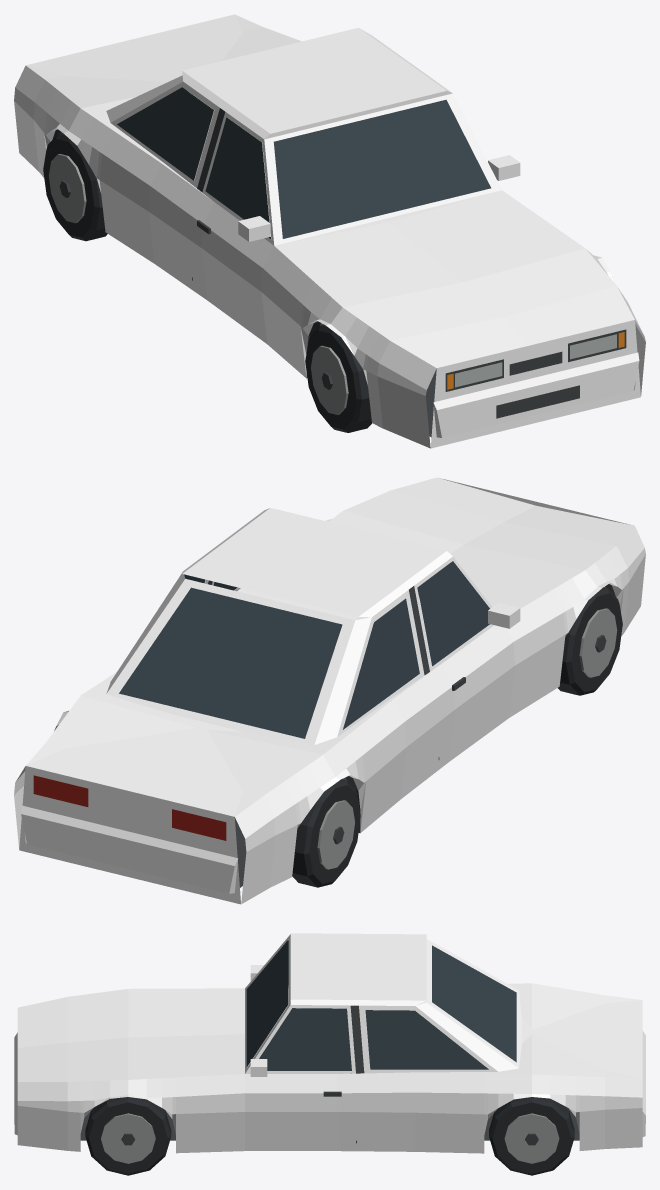
Rendered from ostwerk_reiher.glb.
The picture shows the model from 3 angles, top to bottom: view 1: azimuth 30°, elevation 25°; view 2: azimuth 150°, elevation 25°; view 3: azimuth 270°, elevation 25°; orthographic projection. The views are drawn at different scales.
Visible parts, largest first — view 1: ostwerk_reiher; view 2: ostwerk_reiher; view 3: ostwerk_reiher.
Part boxes in pixels (x1,y1,x2,y2): ostwerk_reiher: [14, 14, 645, 448]; ostwerk_reiher: [14, 477, 645, 904]; ostwerk_reiher: [14, 933, 645, 1175].
Size of the model in its own units: 1.78 by 1.28 by 4.57.
Materials: 8 (1 with a texture image).
